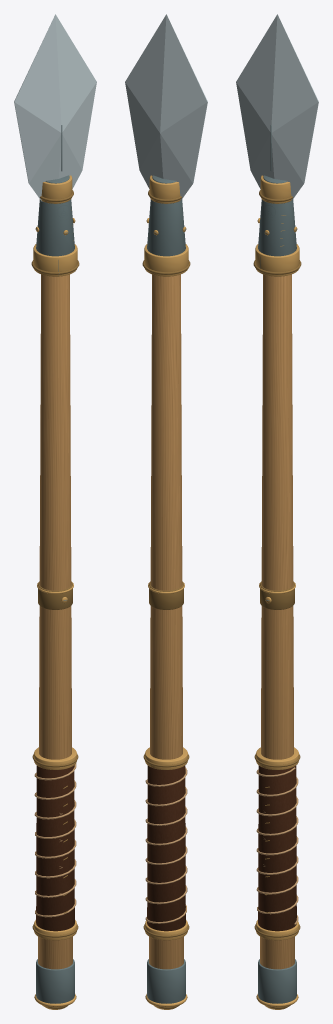
The model's file is spear.glb.
The picture shows the model from 3 angles, left to right: view 1: azimuth 30°, elevation 25°; view 2: azimuth 150°, elevation 25°; view 3: azimuth 330°, elevation 25°; orthographic projection.
Visible parts, largest first — view 1: Render_spear; view 2: Render_spear; view 3: Render_spear.
Part boxes in pixels (<box>): Render_spear: <box>14,14,96,1009</box>; Render_spear: <box>125,14,207,1009</box>; Render_spear: <box>236,14,318,1009</box>.
Size of the model in its own units: 0.142 by 1.63 by 0.0716.
7 materials, 7 textured.
